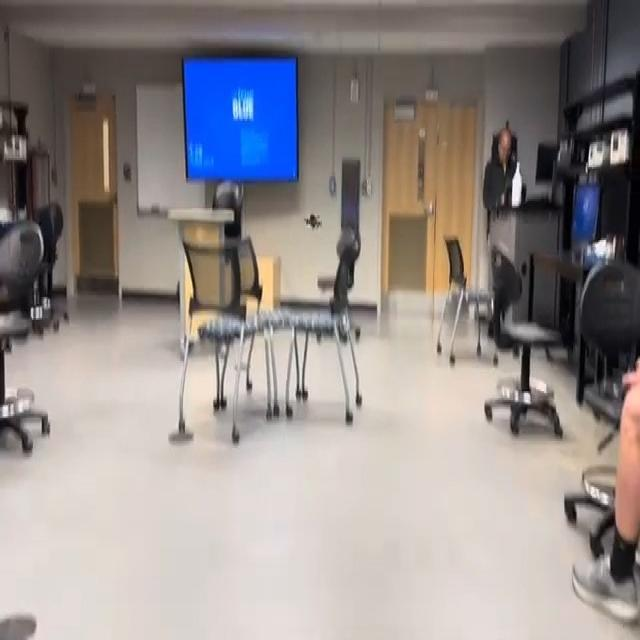drone: (300, 204, 326, 245)
